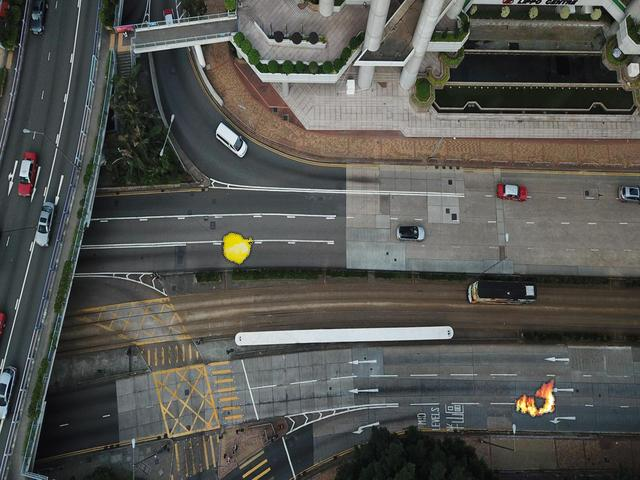fire: (513, 378, 556, 417), (220, 231, 253, 265)
